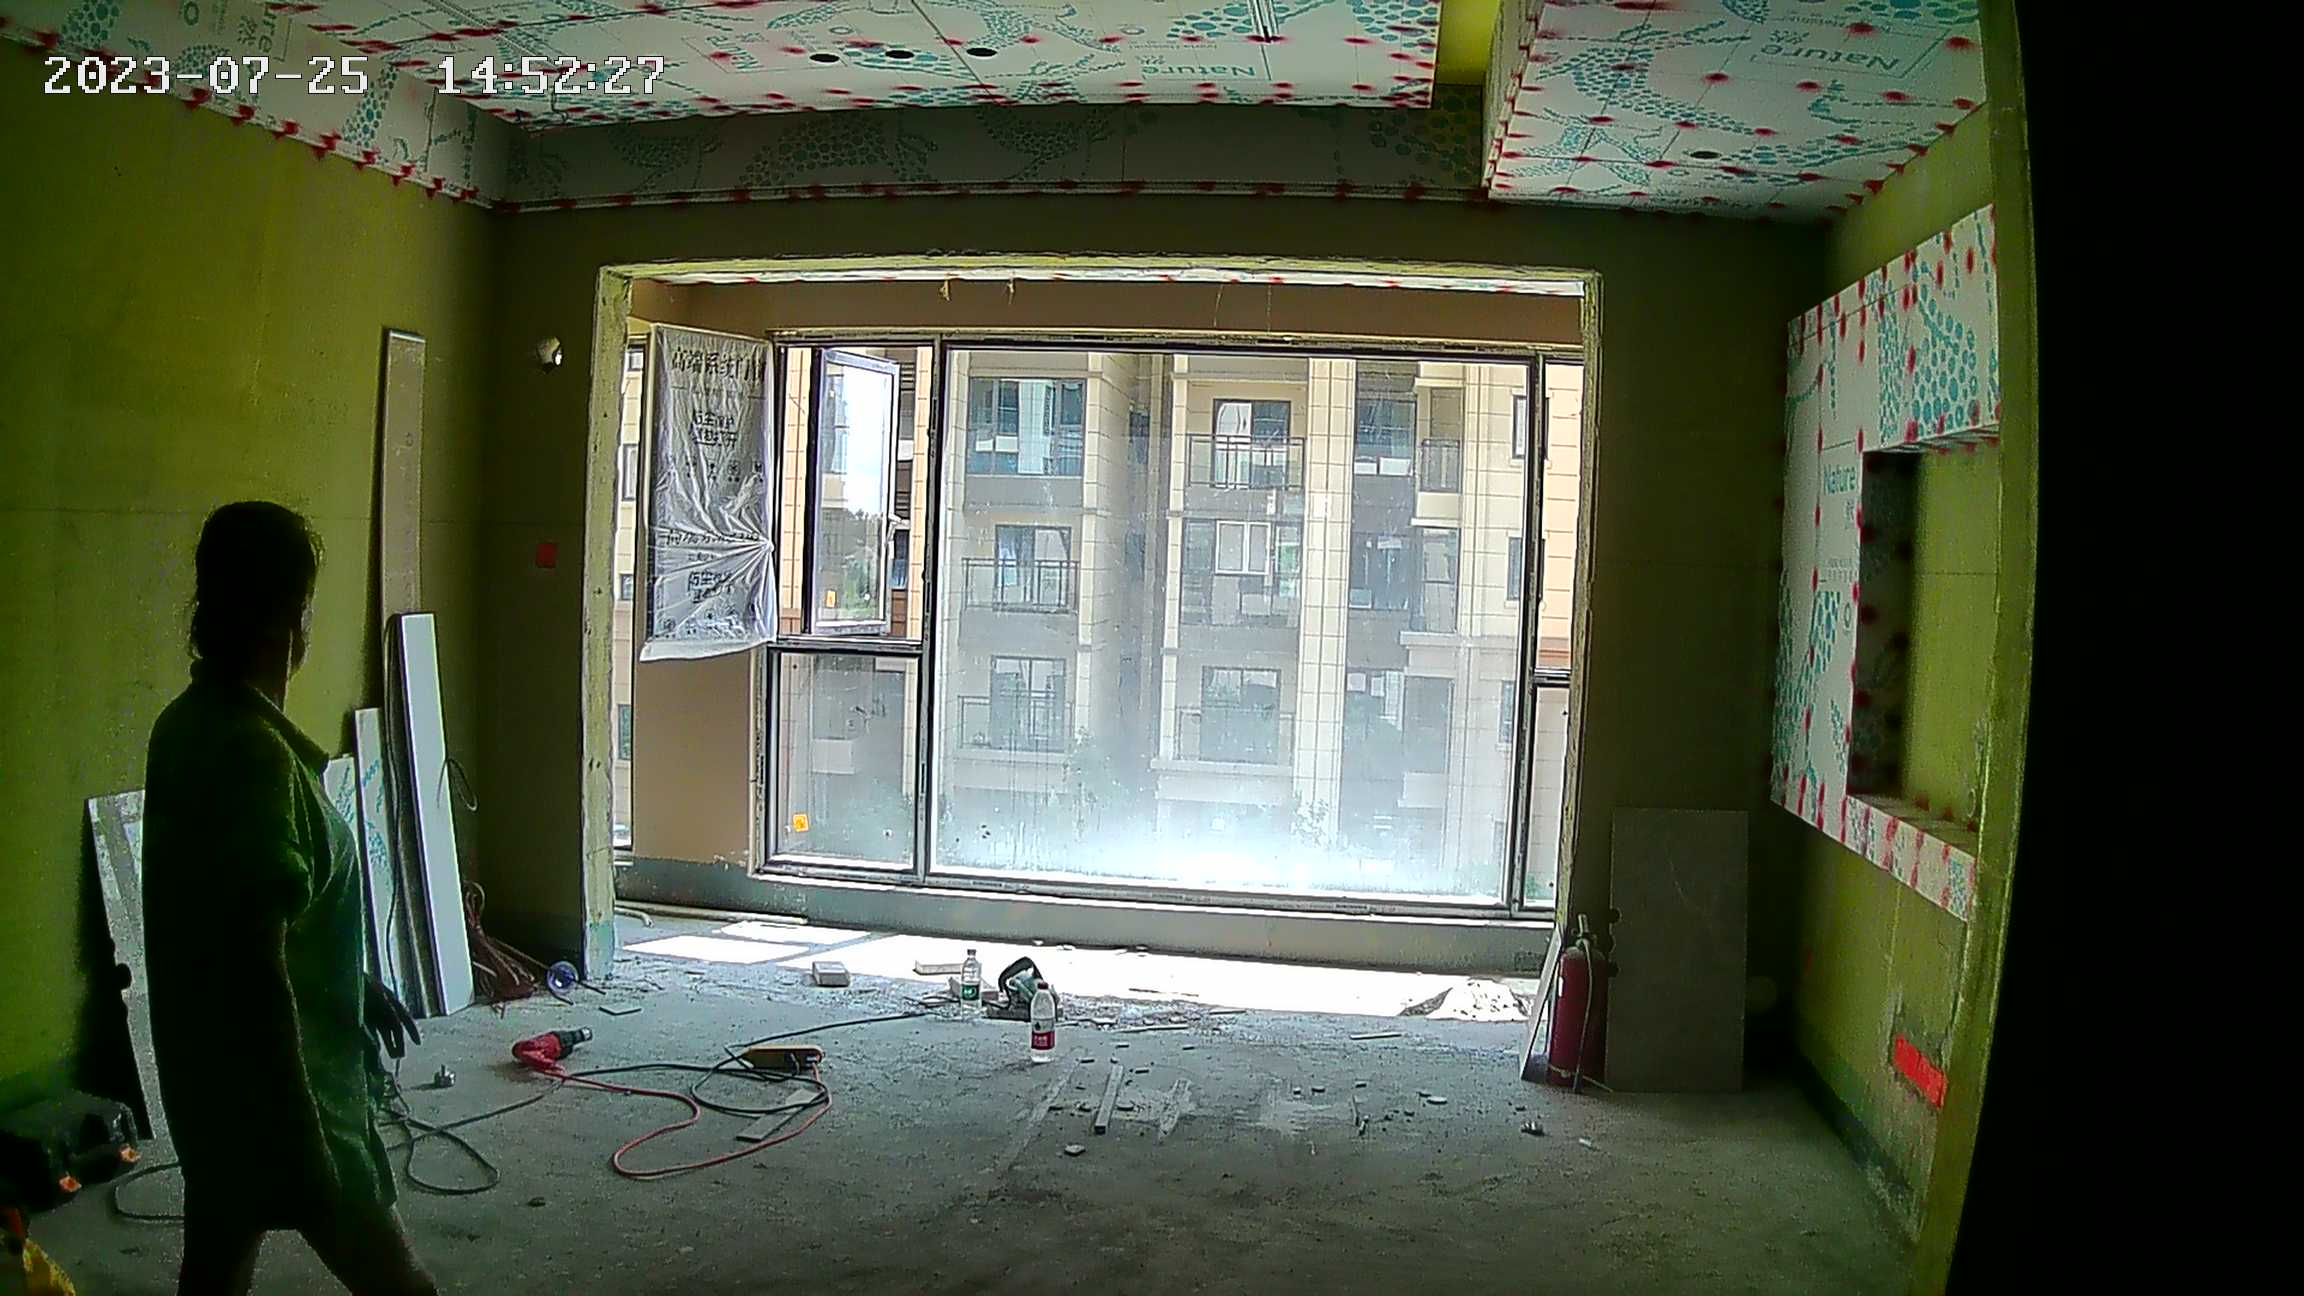people: (135, 504, 448, 1296)
window: (769, 342, 1562, 923)
